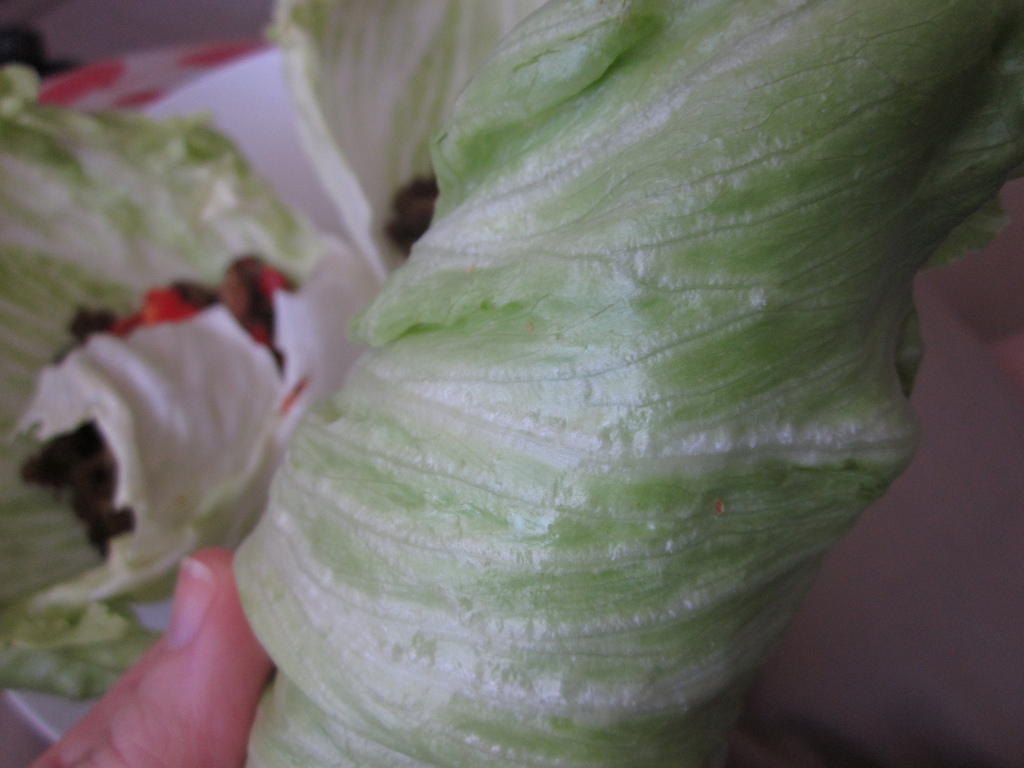chopped lettuce: (255, 1, 1024, 767), (7, 91, 234, 608)
